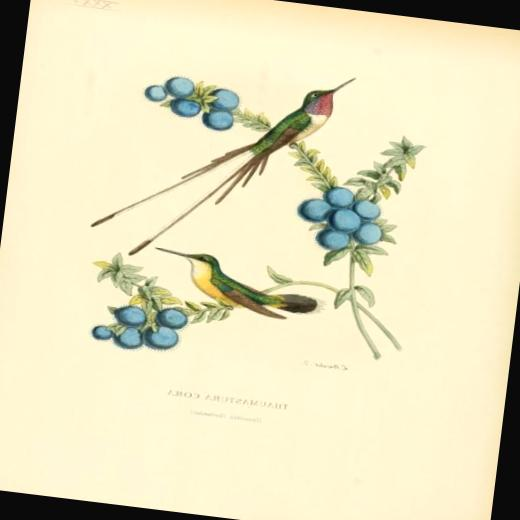Orange: (294, 180, 387, 256), (142, 325, 176, 352), (162, 76, 197, 102), (208, 86, 244, 110), (203, 106, 232, 130), (115, 306, 144, 329), (156, 308, 186, 329), (170, 94, 197, 116), (115, 328, 142, 350), (143, 84, 165, 102), (93, 325, 113, 342)
